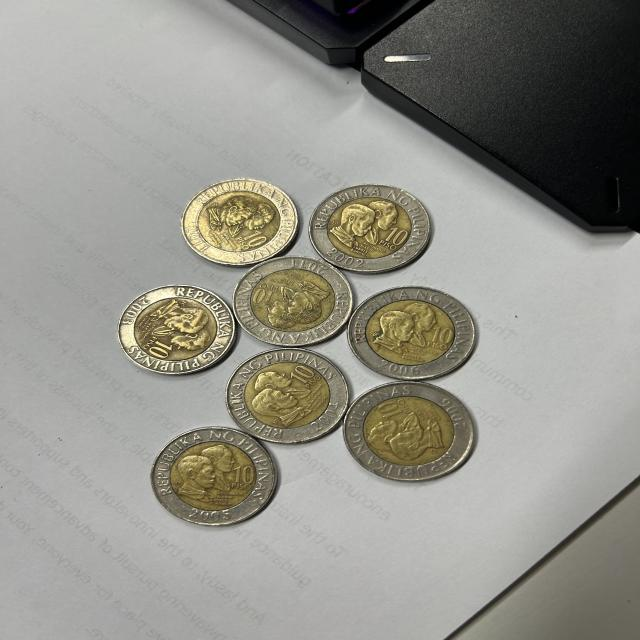10_Old_Front: (288, 366, 318, 384), (384, 226, 410, 246), (232, 465, 258, 485), (150, 341, 176, 358), (376, 402, 404, 417), (433, 328, 457, 345), (251, 290, 276, 306), (246, 231, 268, 247)
